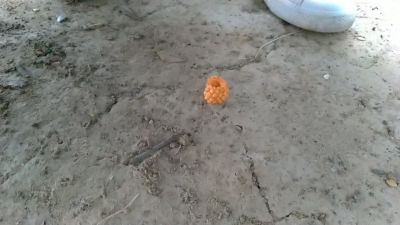eggs: (202, 74, 229, 109)
